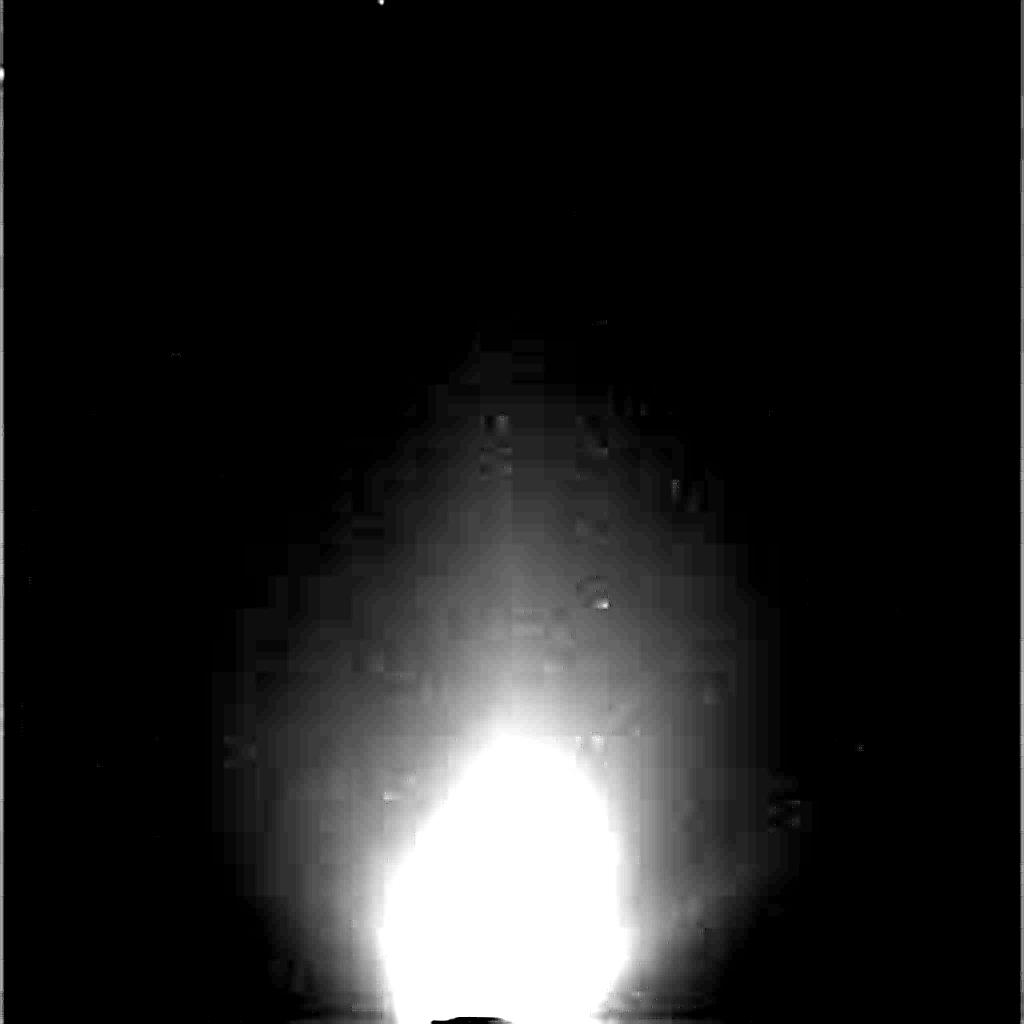plumes: (376, 738, 630, 1016)
